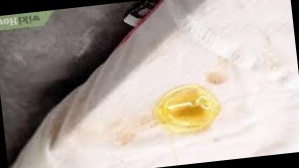oil: (147, 83, 223, 133), (106, 117, 163, 142), (201, 66, 232, 95), (217, 53, 245, 70)
